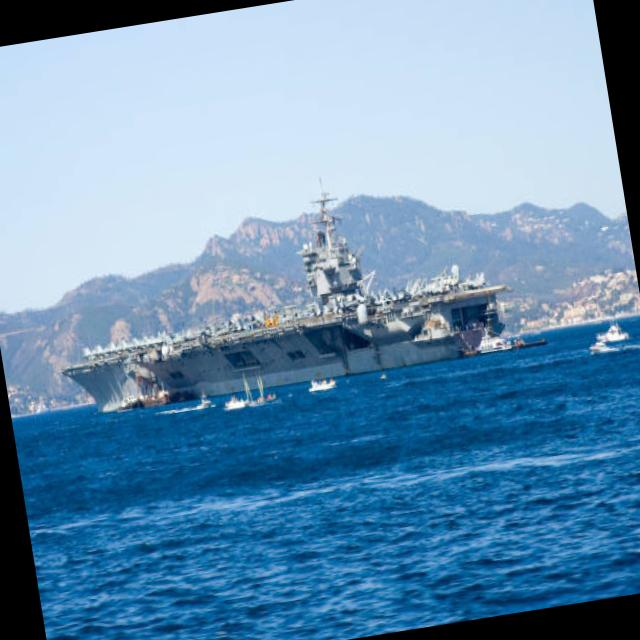Military: (64, 196, 507, 414)
